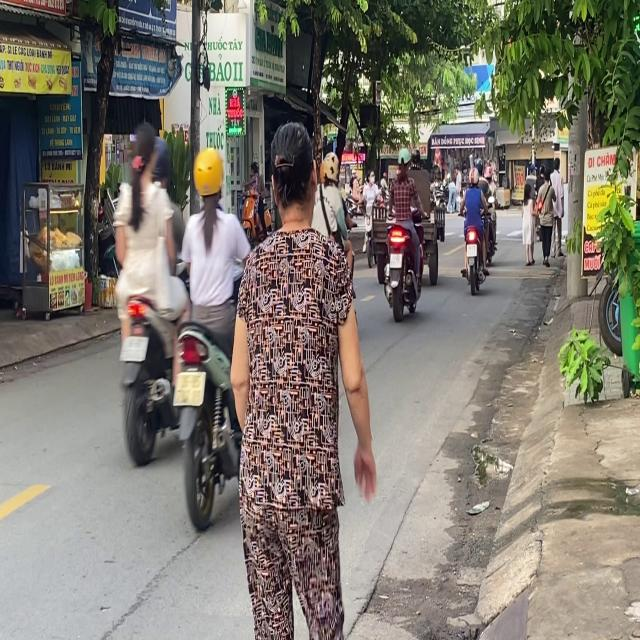helmet: (192, 146, 225, 206), (148, 131, 171, 190), (397, 146, 410, 169)
licenseplate: (169, 142, 253, 528), (111, 120, 186, 462), (381, 145, 424, 320)
motorcyclist: (129, 122, 157, 181)
nohelmet: (173, 370, 205, 404), (121, 335, 147, 360), (389, 252, 402, 268)
